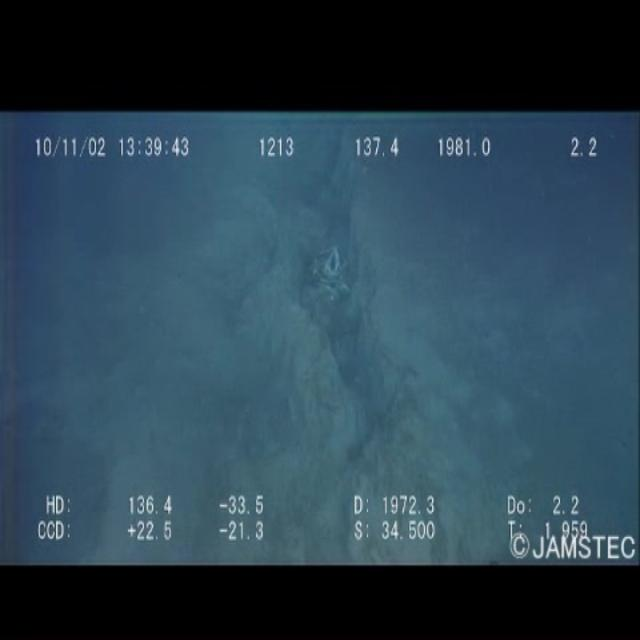Litter: (312, 234, 364, 320)
